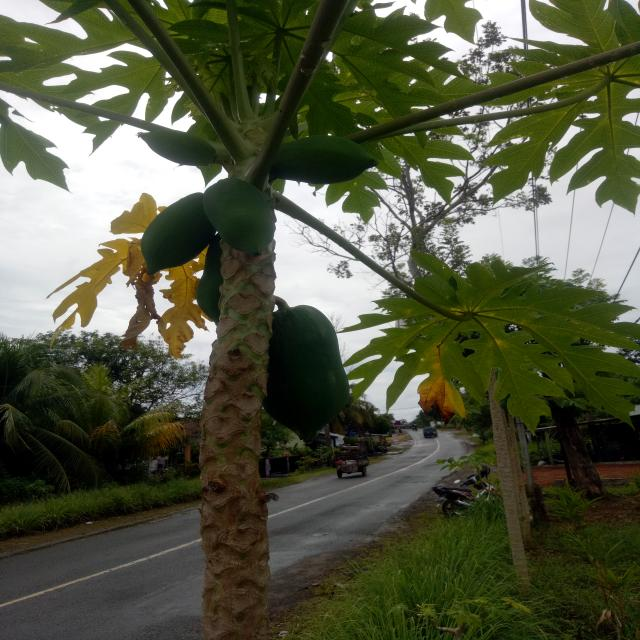Pepaya unrippen: (250, 303, 348, 436), (136, 192, 203, 281), (205, 180, 275, 246), (286, 142, 381, 185)
